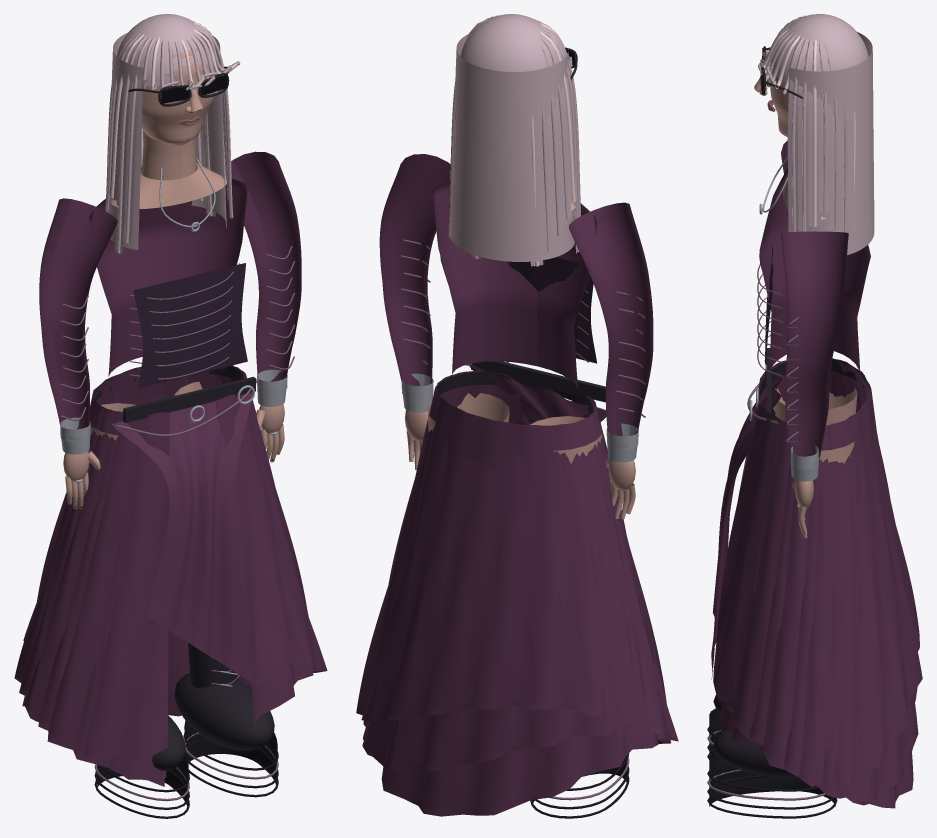
File: look-4-detail.glb
3 renders of one model, left to right at view 1: azimuth 30°, elevation 25°; view 2: azimuth 150°, elevation 25°; view 3: azimuth 270°, elevation 25°, orthographic. The views are drawn at different scales.
Parts seen in each view (by area): view 1: look-4-detail, arm-0, arm-1, leg-1, leg-0; view 2: look-4-detail, arm-0, arm-1, leg-0, leg-1; view 3: look-4-detail, arm-1, leg-1, leg-0.
Boxes of the visible parts, left/top/right/bottom form: look-4-detail: left=14, top=14, right=327, bottom=786; arm-0: left=39, top=198, right=117, bottom=509; arm-1: left=225, top=151, right=301, bottom=462; leg-1: left=174, top=381, right=278, bottom=797; leg-0: left=90, top=403, right=189, bottom=818; look-4-detail: left=356, top=14, right=678, bottom=816; arm-0: left=569, top=202, right=653, bottom=518; arm-1: left=379, top=154, right=450, bottom=469; leg-0: left=530, top=416, right=629, bottom=818; leg-1: left=427, top=393, right=509, bottom=431; look-4-detail: left=711, top=14, right=922, bottom=808; arm-1: left=781, top=231, right=848, bottom=538; leg-1: left=707, top=422, right=854, bottom=818; leg-0: left=707, top=387, right=857, bottom=759.
Size of the model in its own units: 0.821 by 2.04 by 0.5205.
